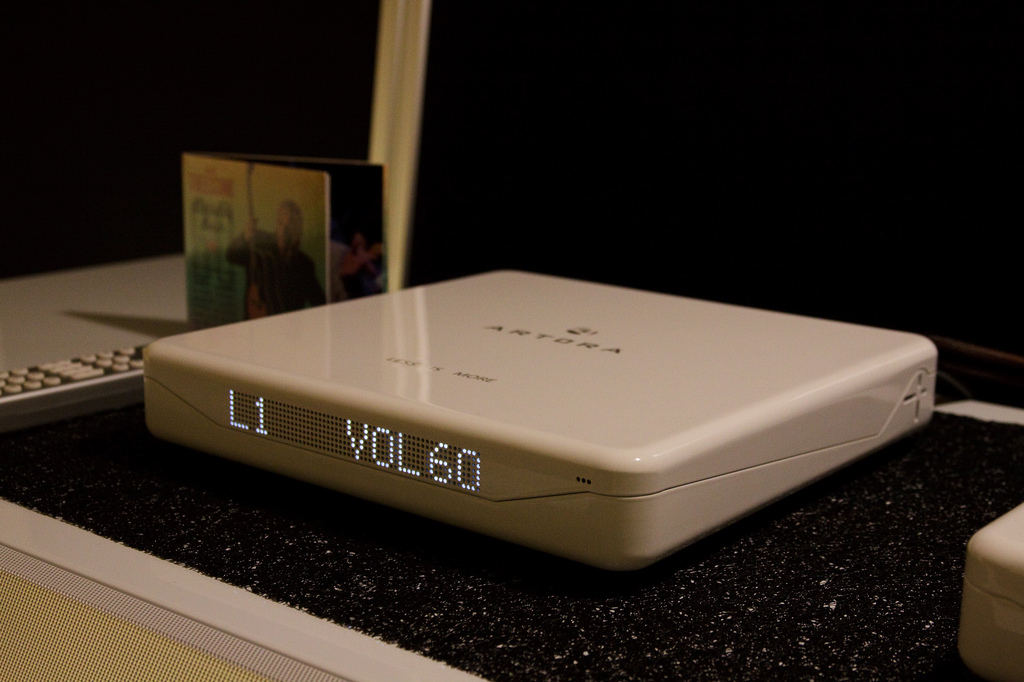person: (336, 228, 385, 299)
